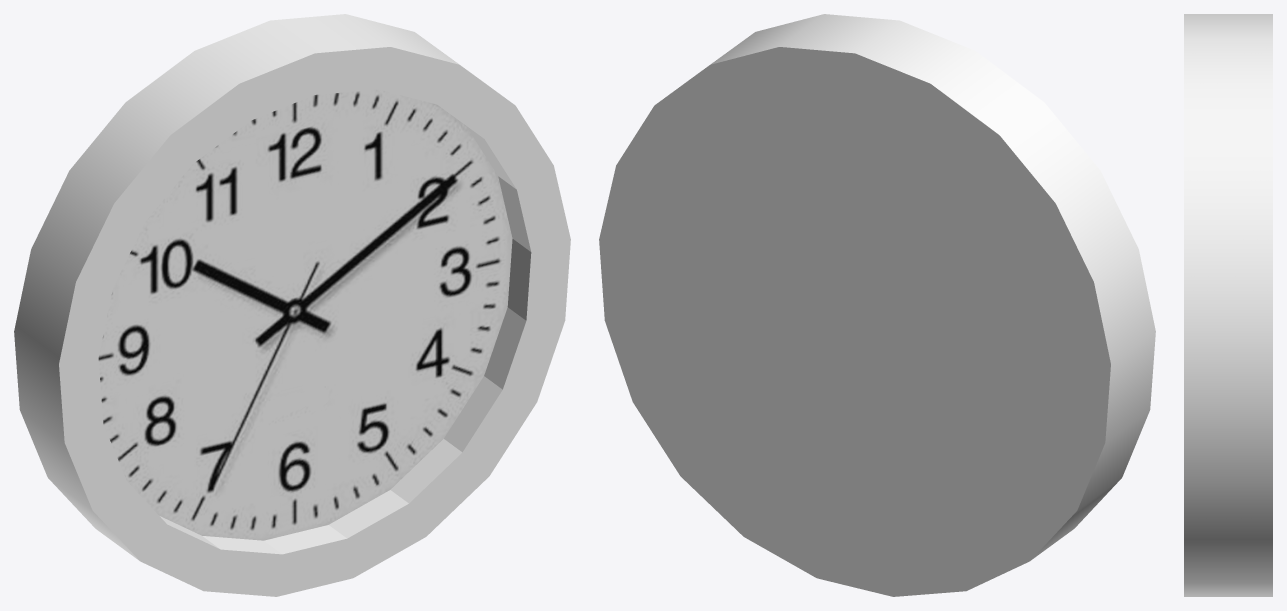
The model's file is Clock.FBX.
3 renders of one model, left to right at view 1: azimuth 30°, elevation 25°; view 2: azimuth 150°, elevation 25°; view 3: azimuth 270°, elevation 25°, orthographic.
Parts seen in each view (by area): view 1: Clock; view 2: Clock; view 3: Clock.
Part boxes in pixels (x1,y1,x2,y2): Clock: (14, 14, 570, 596); Clock: (599, 14, 1155, 596); Clock: (1184, 14, 1272, 596).
Size of the model in its own units: 41.56 by 41.44 by 6.31.
Materials: 1 (1 with a texture image).
